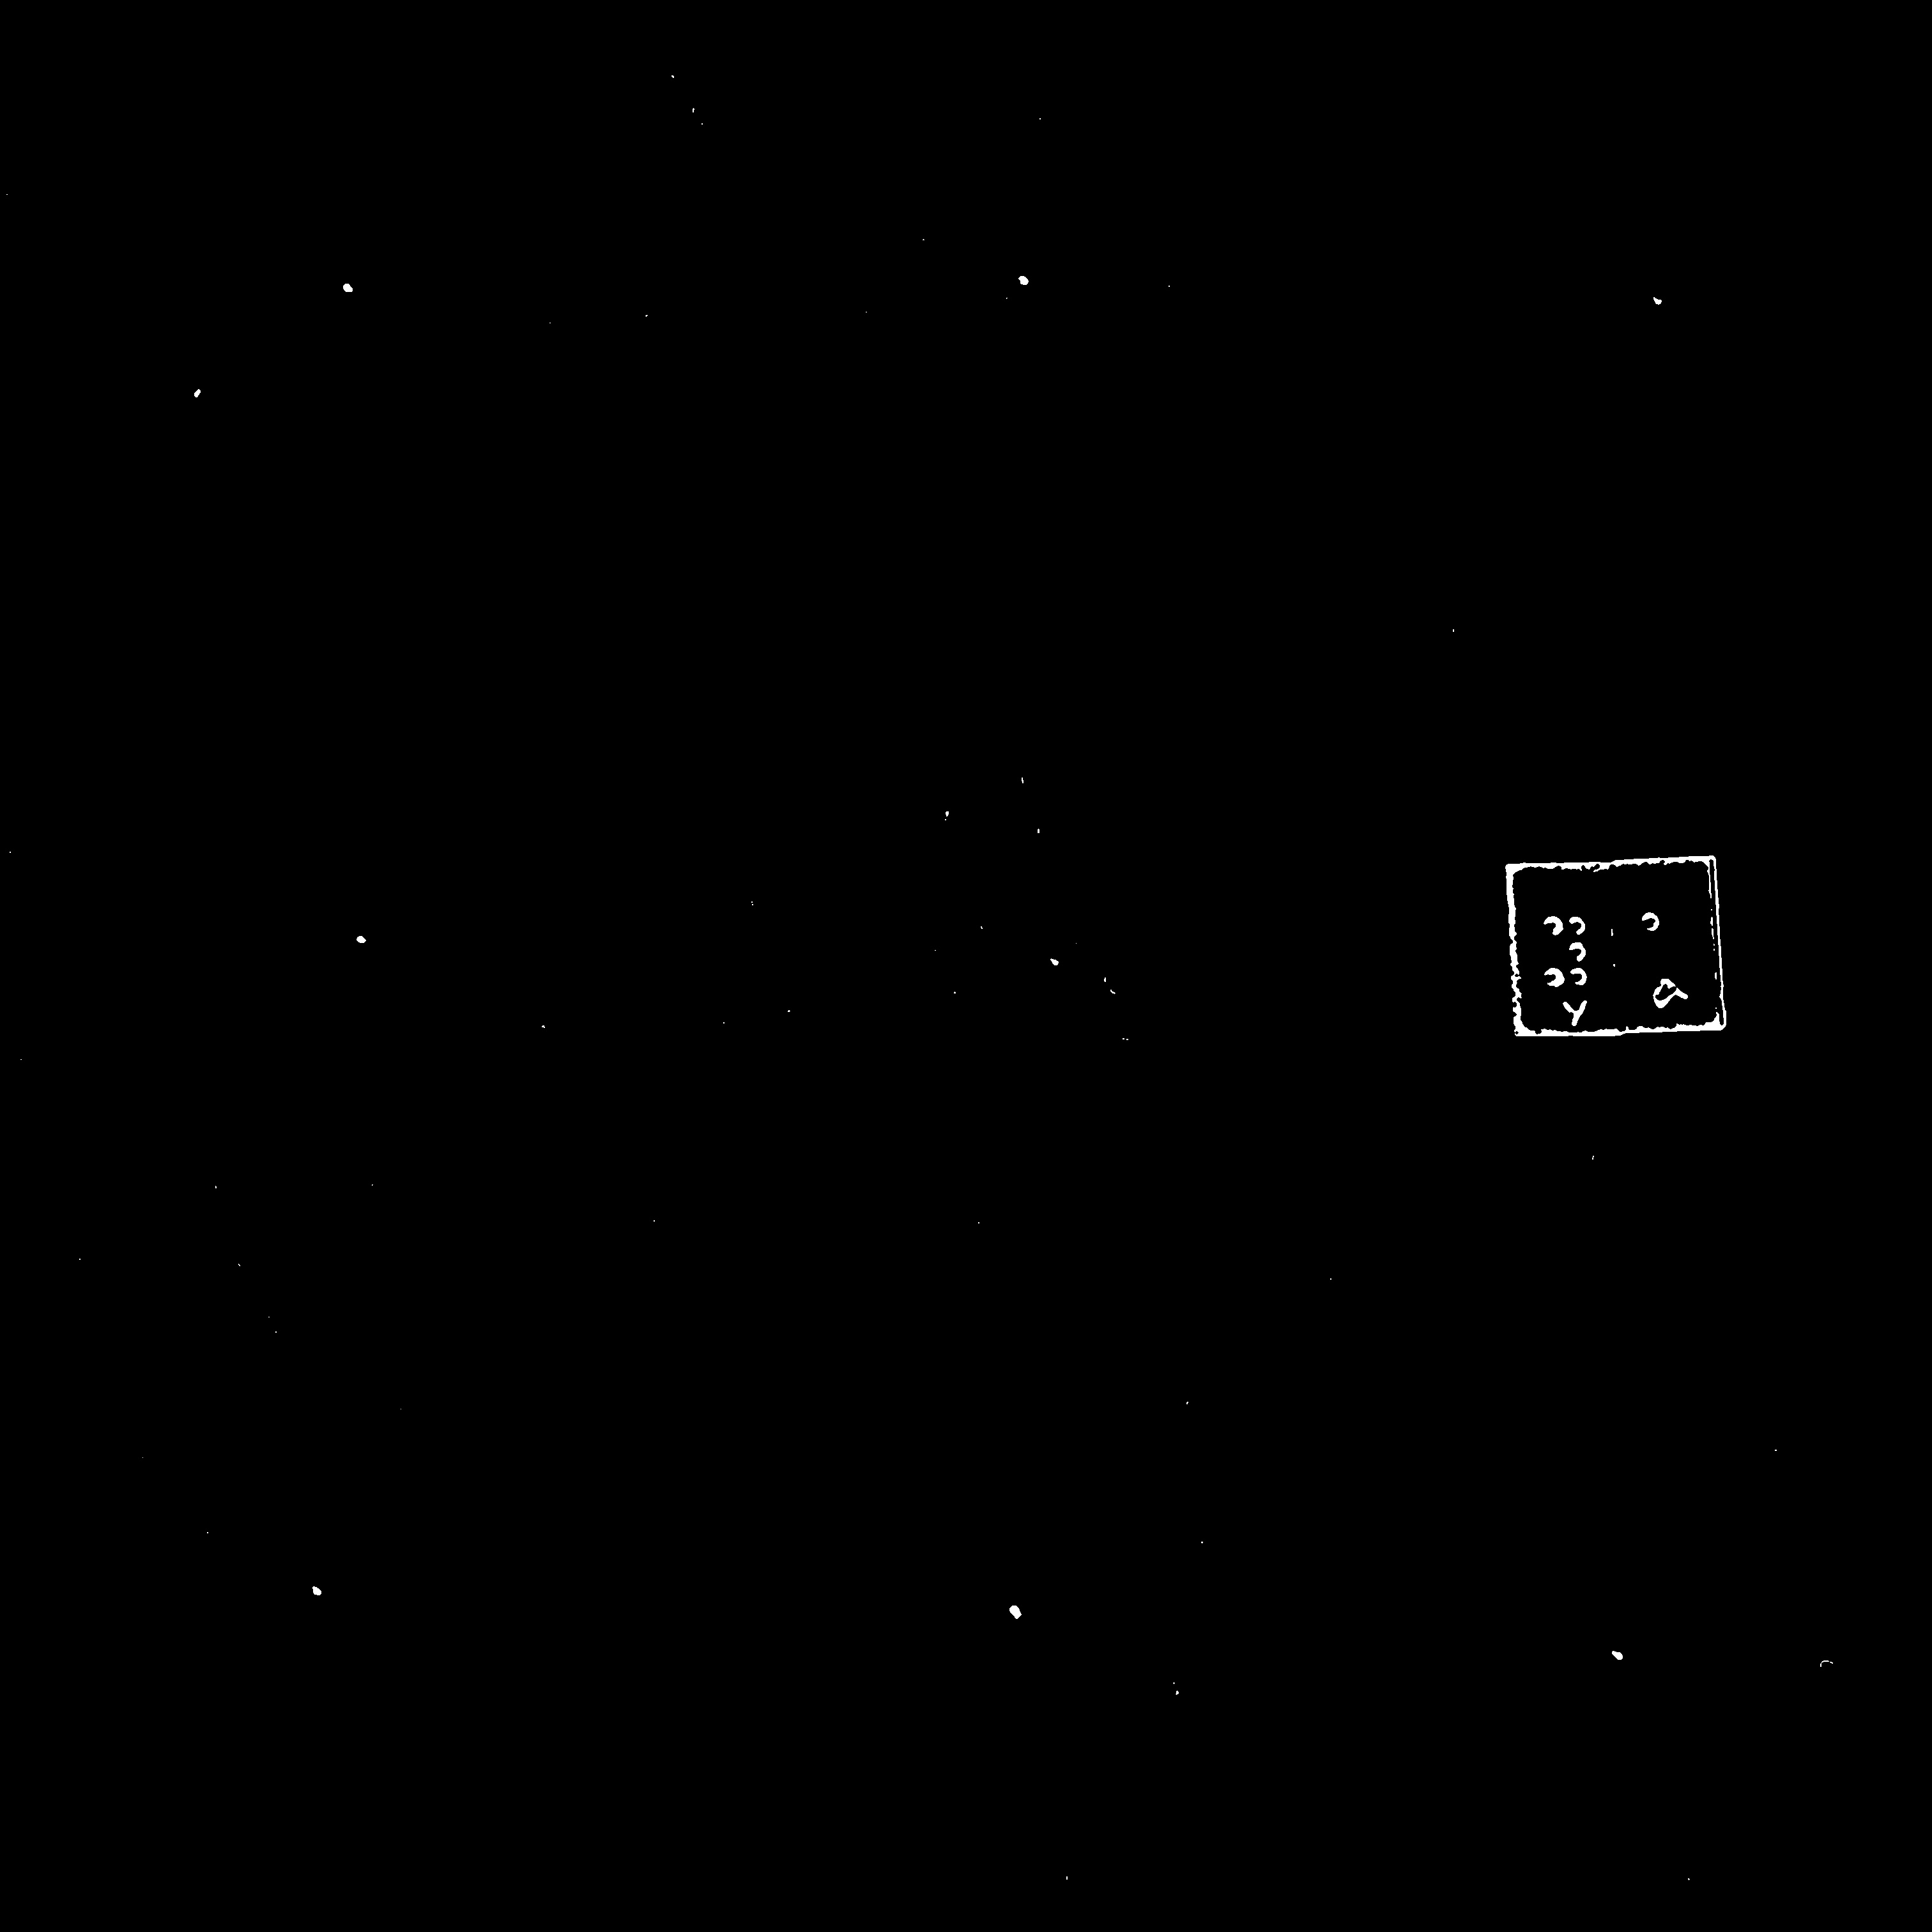a: (1635, 894, 1692, 985)
y: (1536, 901, 1598, 998)
